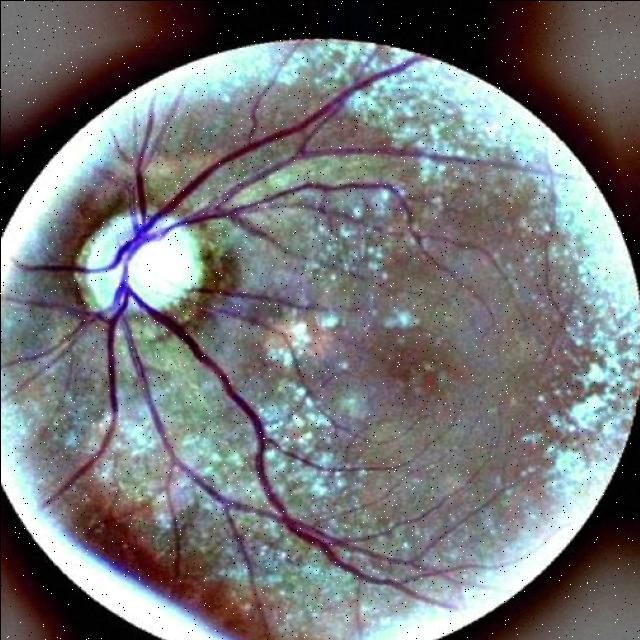Macula: (366, 334, 461, 420)
Nerves: (133, 295, 452, 600), (136, 63, 526, 257), (42, 319, 122, 513)
Optic Disk: (53, 196, 218, 334)
